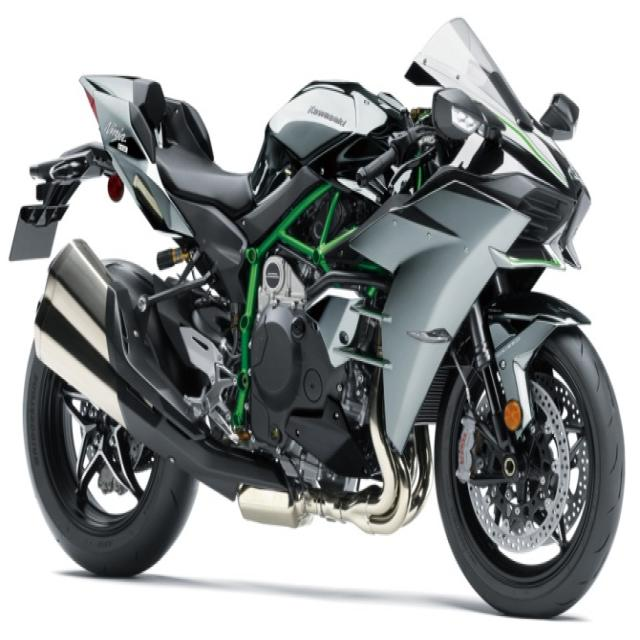motorcycle: (11, 18, 624, 616)
